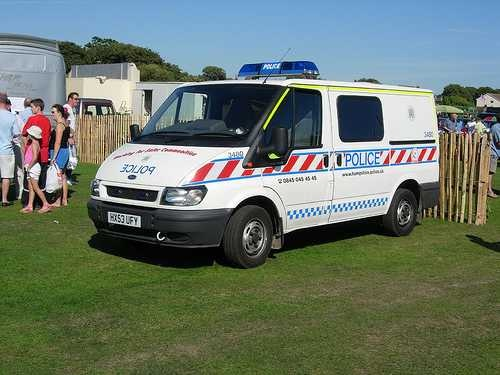Police Van: (99, 47, 454, 252)
